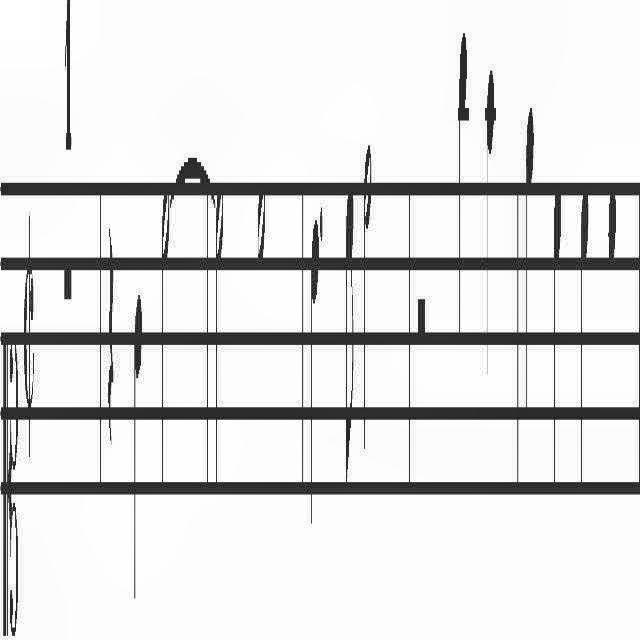Eighth-note: (342, 143, 356, 522)
Half-note: (361, 138, 375, 514), (253, 164, 267, 528), (214, 153, 226, 499), (161, 158, 171, 494)
Quarter-note: (456, 11, 470, 406), (484, 36, 498, 420), (578, 169, 594, 497), (308, 168, 320, 576), (524, 71, 536, 468), (132, 240, 144, 636), (607, 154, 619, 518), (552, 154, 564, 502)
Quarter-rest: (102, 148, 118, 600)
